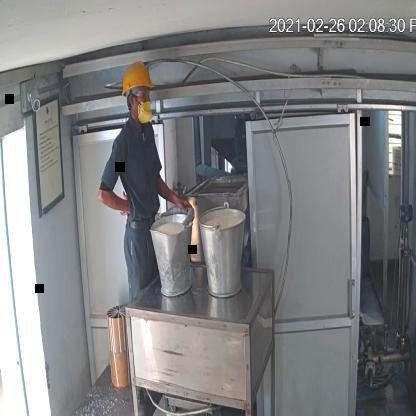helmet: (119, 60, 158, 95)
